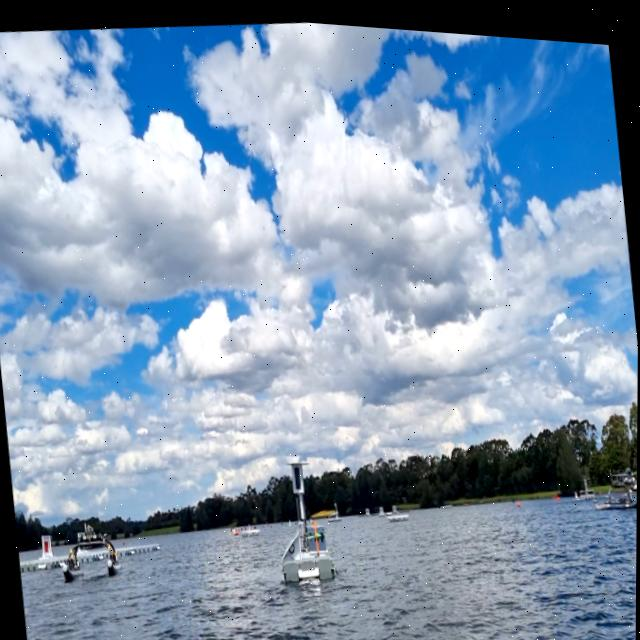led: (292, 460, 303, 487)
